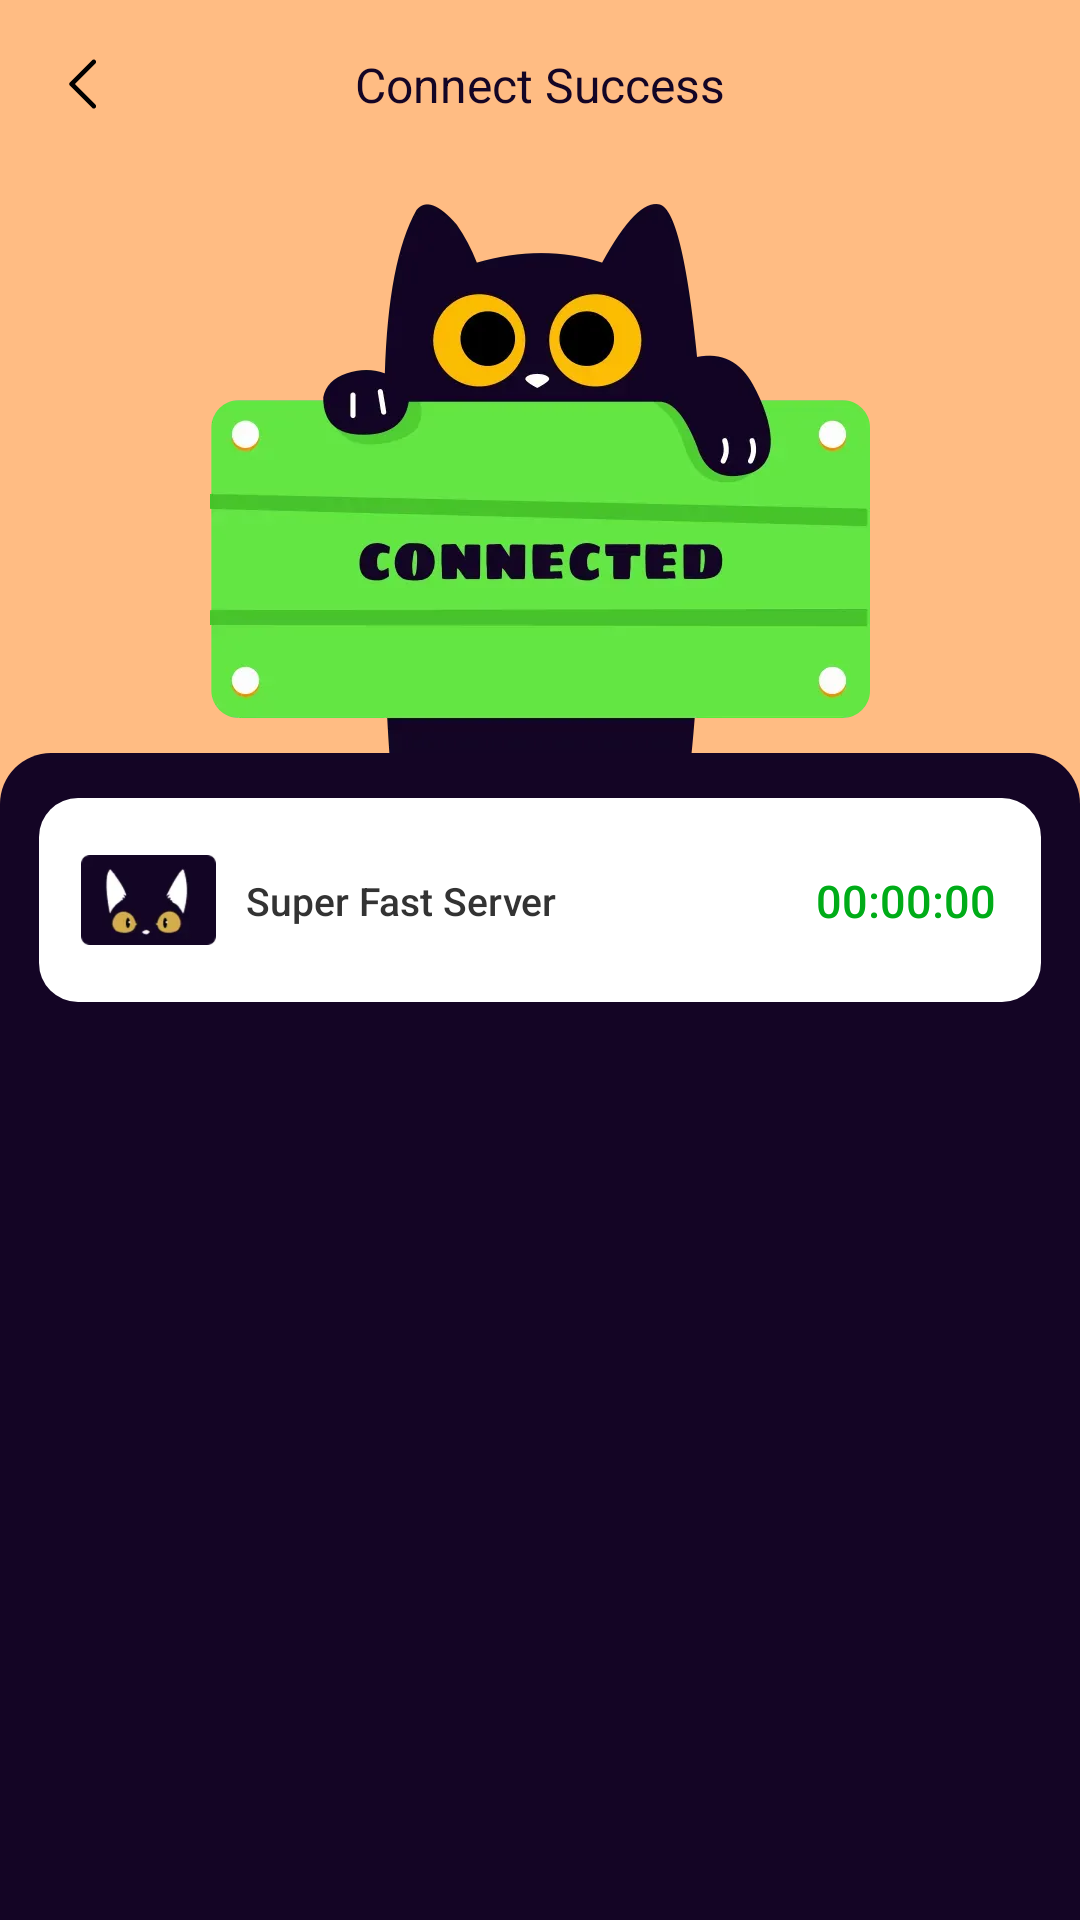

Icons on this 1080w x 1920h Android screen, each with the point to tap as point (x, y):
back: point (82, 84)
